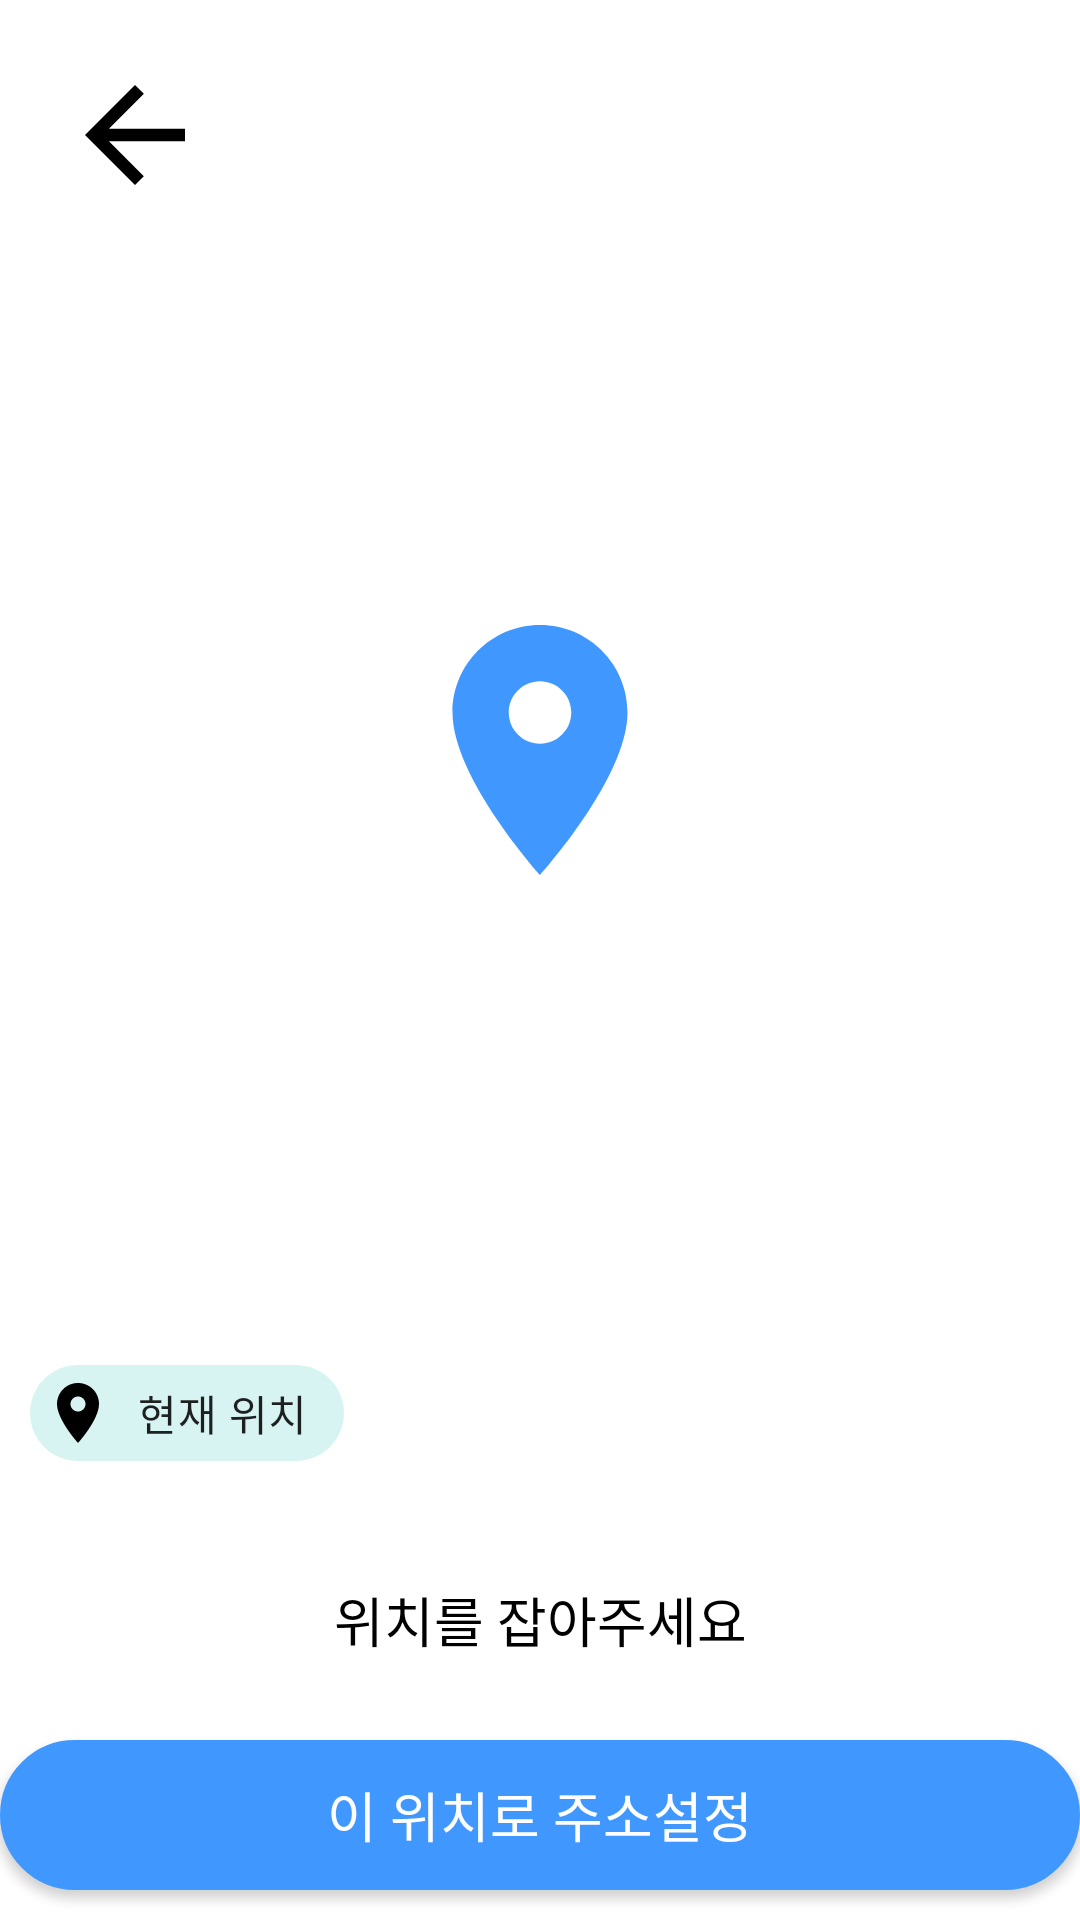

Named icons in this screenshot (1080*1920) and their centers, (x,y):
arrow back: (135,135)
location on: (540,750)
